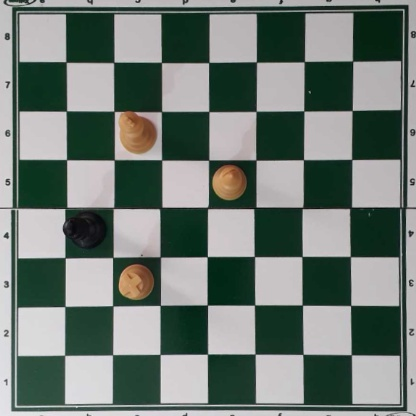black-king: (62, 212, 110, 248)
white-bishop: (212, 164, 245, 200)
white-king: (120, 108, 154, 154)
white-rook: (117, 263, 154, 299)
